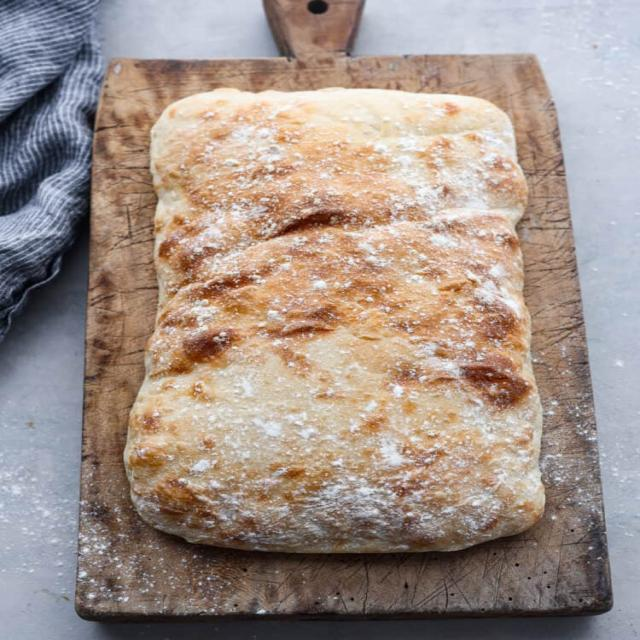Ciabatta: (124, 88, 544, 552)
